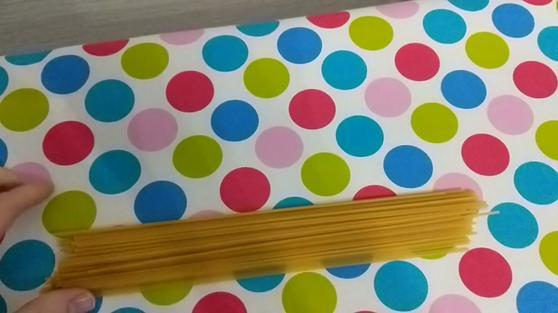spaghetti: (47, 186, 496, 297)
